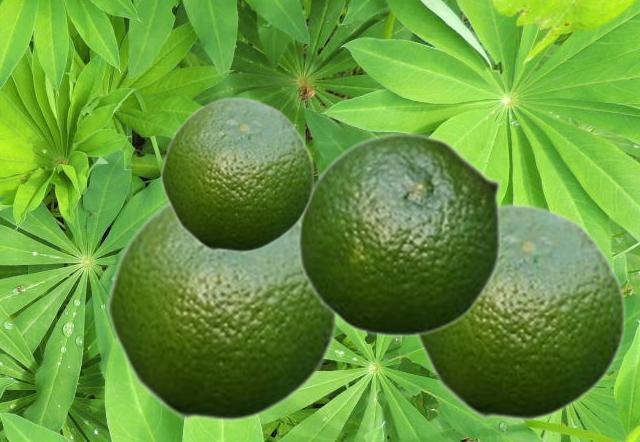calamansi: (105, 199, 338, 421), (412, 201, 626, 420), (297, 132, 502, 337), (159, 95, 314, 252)
